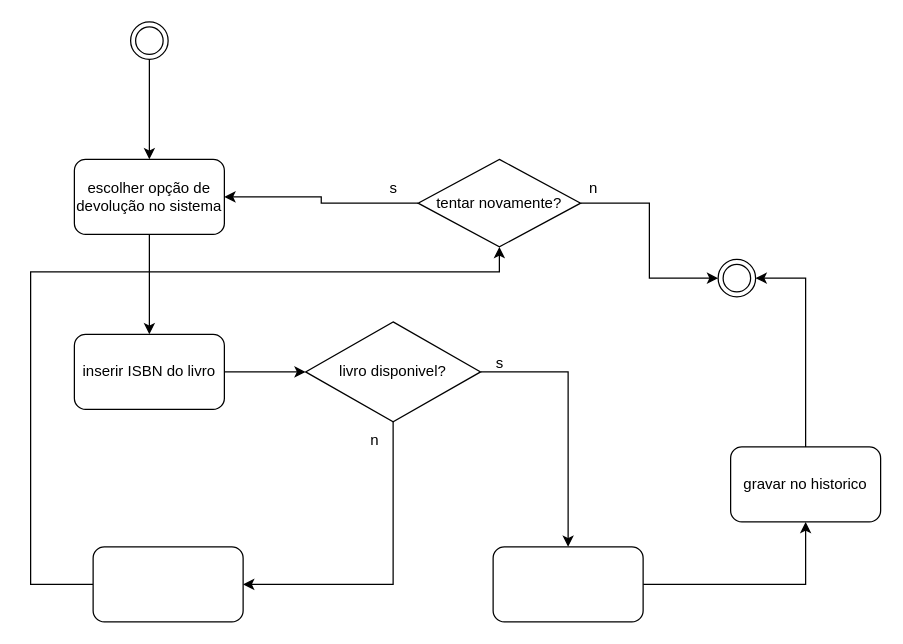
Some shapes in this 903 by 644 pixel diagram are drawn without their labels. Each missing label, with the centre of its shape:
realizar devolução: pixel 567 584
retornar mensagem: pixel 167 584
